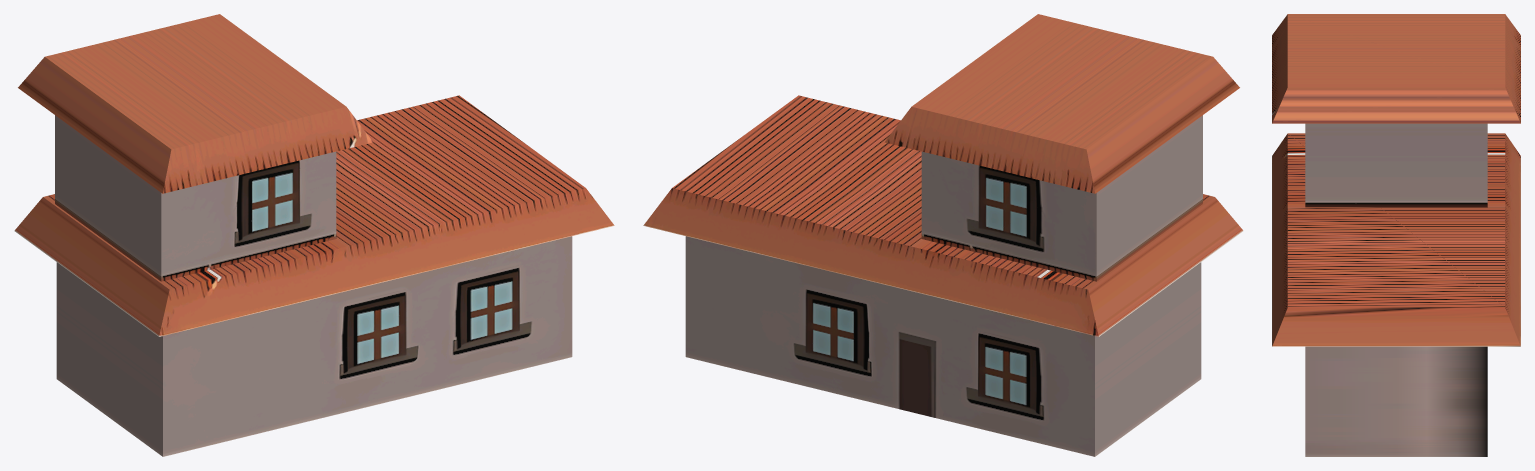
Rendered from House3.glb.
3 views of the same model, side by side, from view 1: azimuth 30°, elevation 25°; view 2: azimuth 150°, elevation 25°; view 3: azimuth 270°, elevation 25° (orthographic). The views are drawn at different scales.
Visible parts, largest first — view 1: House3; view 2: House3; view 3: House3.
Boxes of the visible parts, x1,y1,x2,y2 form: House3: [14, 14, 614, 456]; House3: [643, 14, 1243, 456]; House3: [1272, 14, 1520, 456].
Size of the model in its own units: 121 by 80.05 by 66.62.
1 material, 1 textured.
